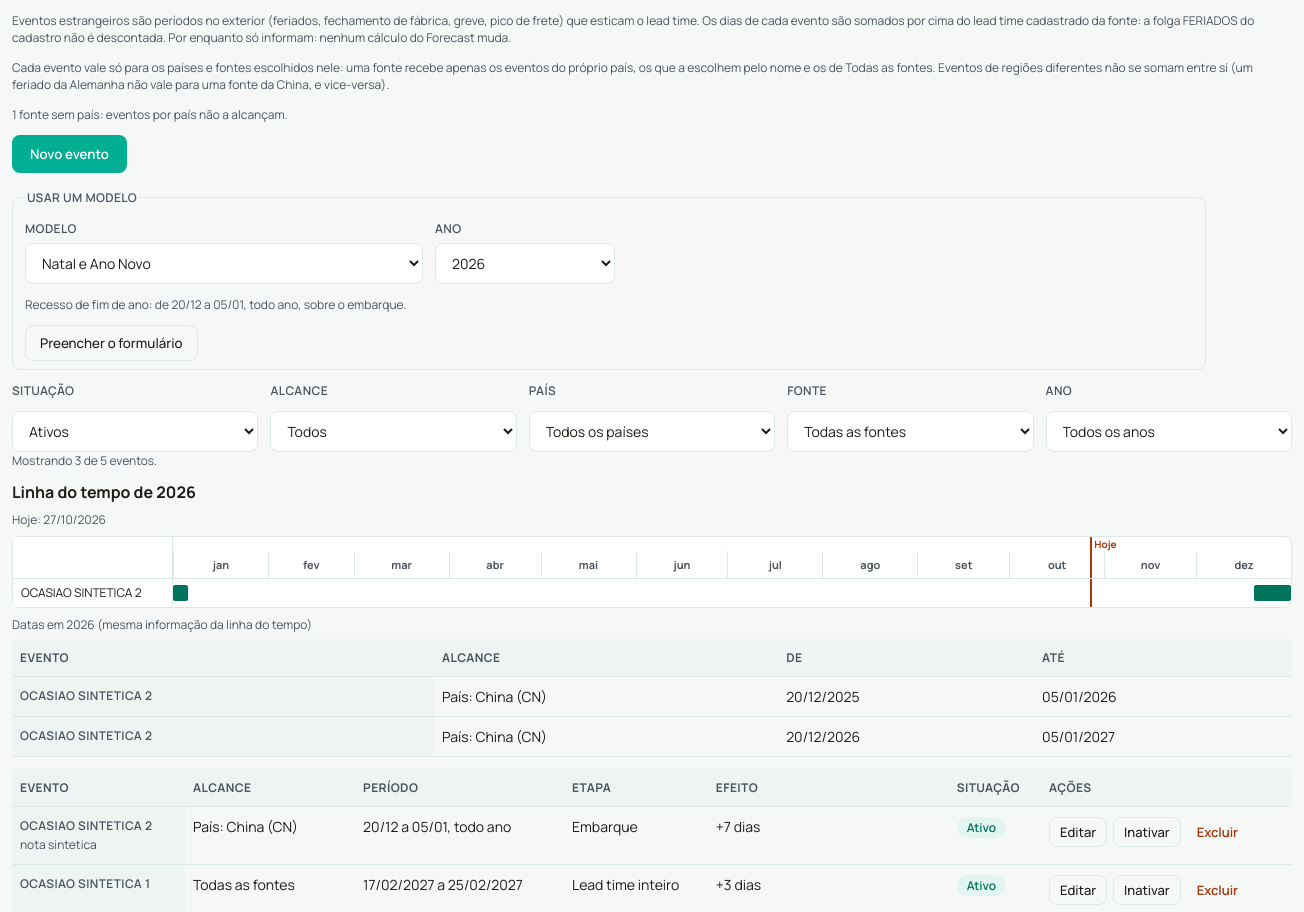
linha do tempo › filtros sem ocorrencia no ano: texto de vazio
The width and height of the screenshot is (1304, 912).
Expected: the table "Datas em 2026" is shown, x1=12 y1=616 x2=1292 y2=757
Step 1. Select "Inativos" in the dropdown labelled "Situação" → (135, 432), box x1=12 y1=411 x2=258 y2=452
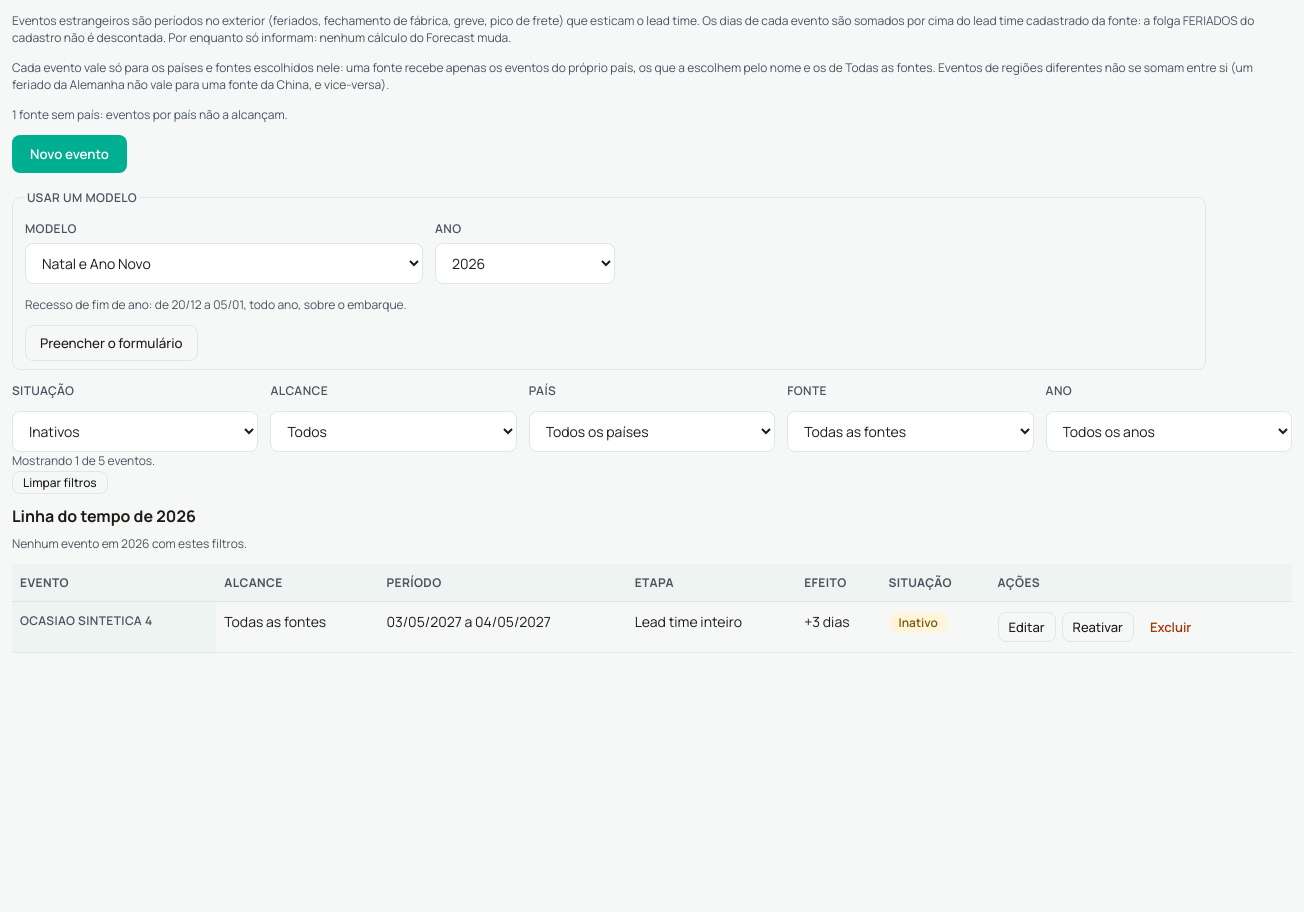
Expected: the text "Nenhum evento em 2026 com estes filtros." is shown, x1=12 y1=534 x2=247 y2=552
